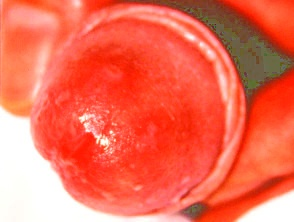SJS-TEN: (19, 0, 264, 222)
